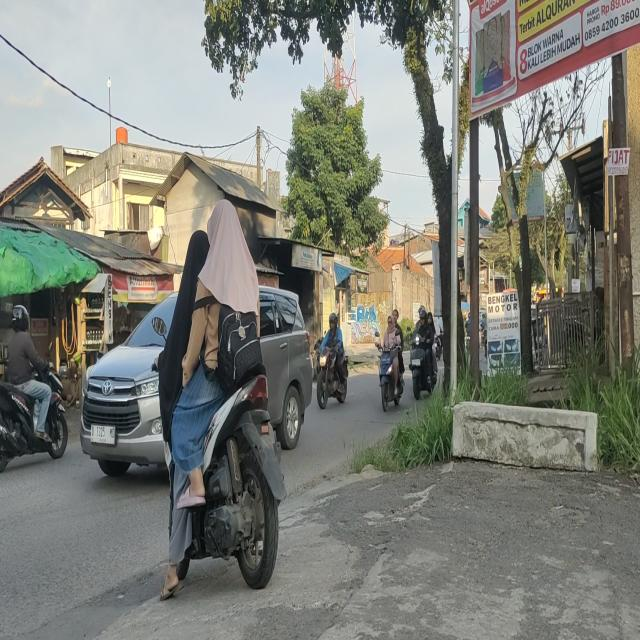helmet: (9, 293, 32, 337), (328, 311, 339, 329), (418, 310, 427, 326)
no-helmet: (205, 194, 245, 266), (182, 221, 216, 285), (387, 315, 394, 329), (392, 310, 399, 324), (428, 311, 433, 324)
